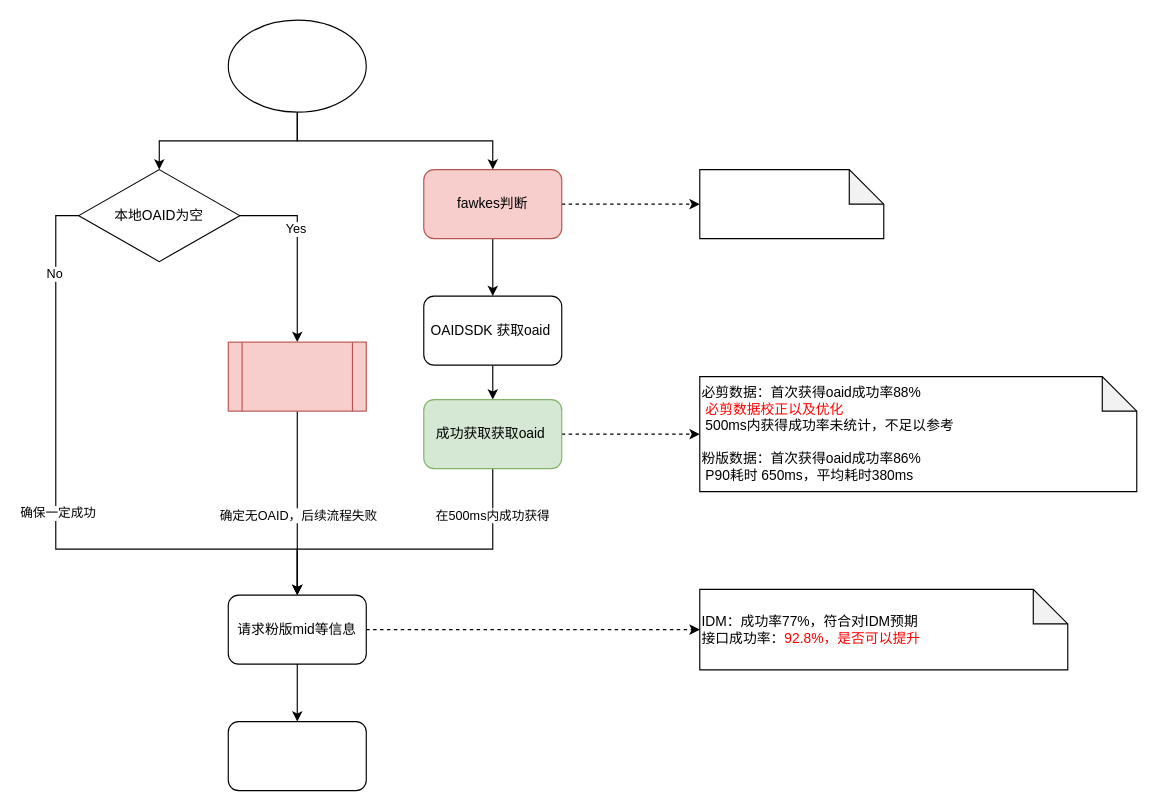
Image size: 1157x811. Some labels were removed from this diagram. The centre of each missing label's shape, as x and y in pixels:
延迟500ms: (296,376)
开始: (296,65)
成功率87%，损失13%: (791,203)
请求用户承接信息: (296,755)
